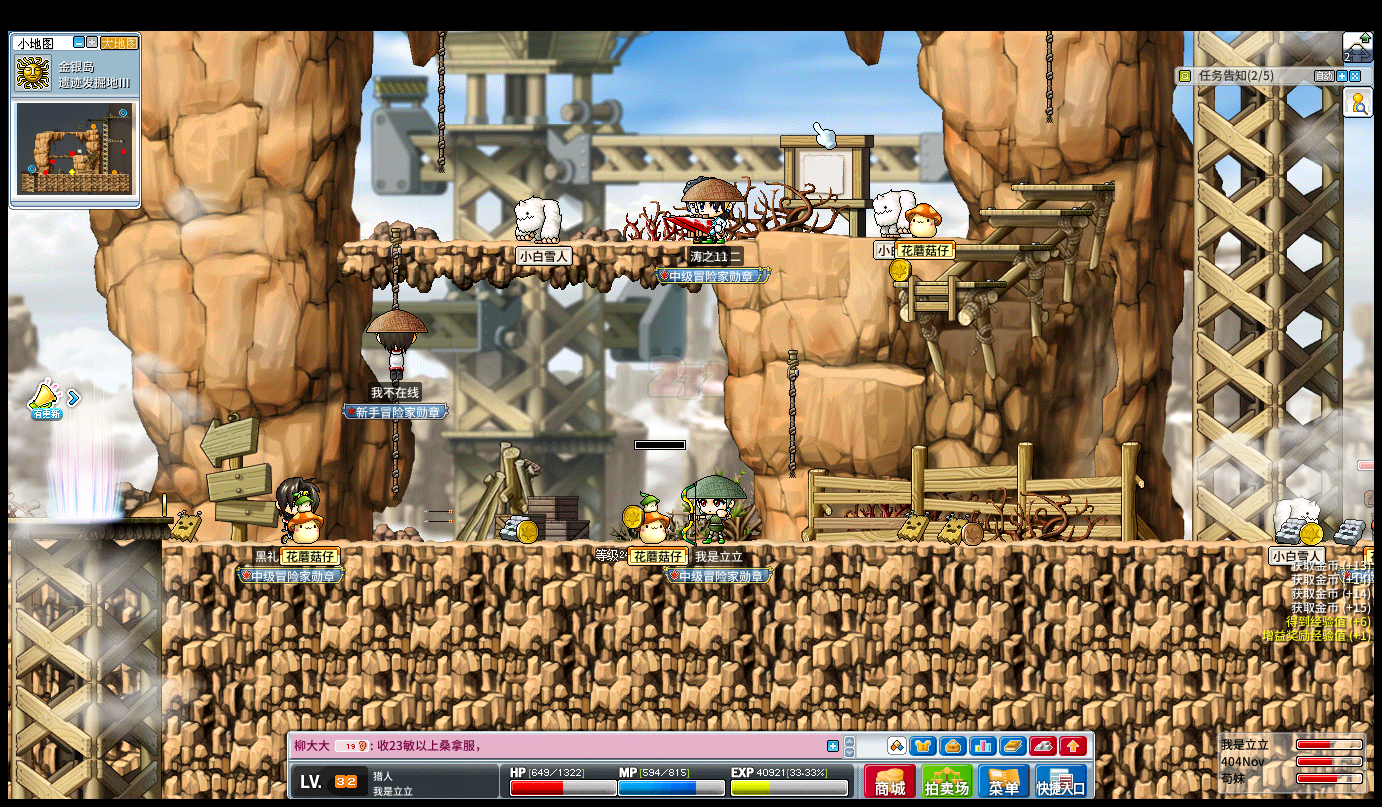floor: (335, 238, 718, 248), (820, 364, 926, 385), (10, 515, 178, 525), (889, 279, 1004, 288), (975, 207, 1088, 215), (1012, 184, 1114, 192), (945, 243, 1049, 249)
rope: (785, 349, 798, 484), (438, 29, 446, 173), (388, 228, 400, 309), (392, 420, 401, 506), (1044, 30, 1052, 121)
